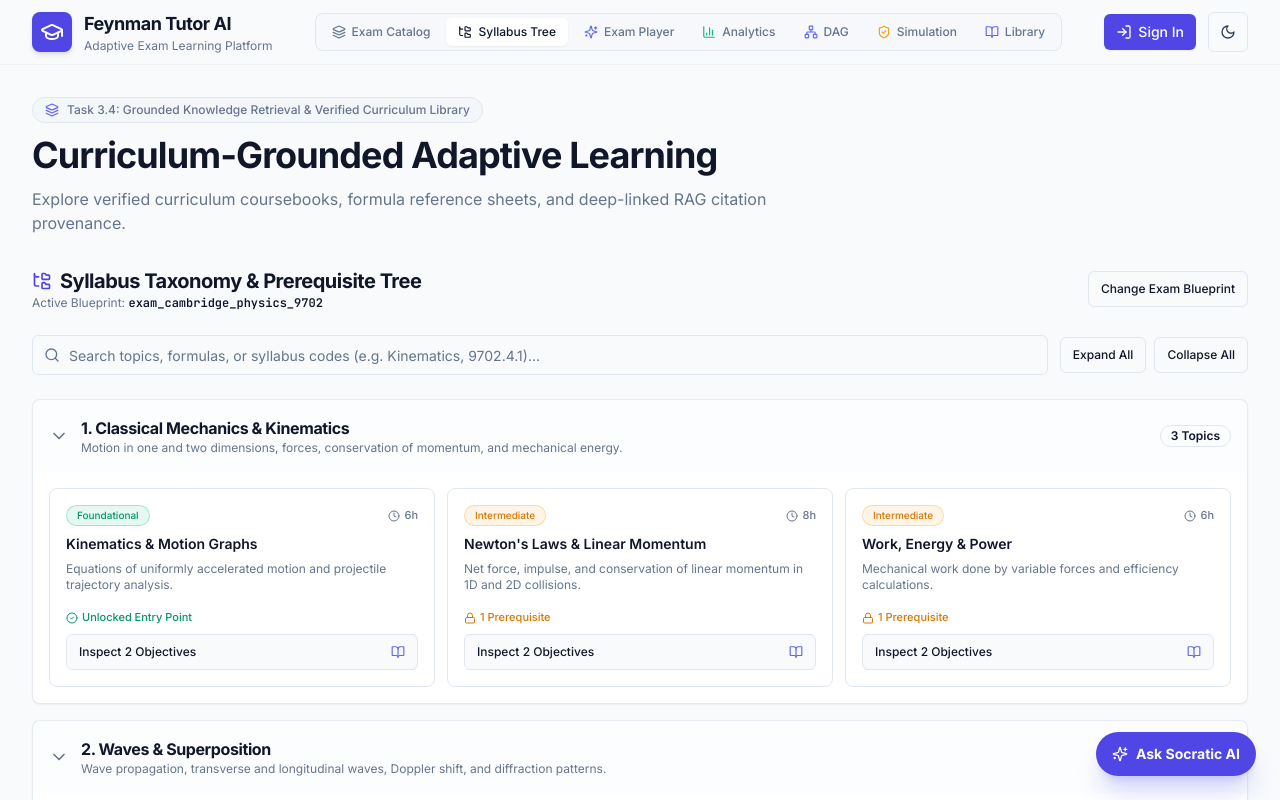
Test case: Curriculum Blueprint Catalog & Syllabus Tree Suite › switches to Exam Catalog tab and selects AP Calculus BC blueprint
Click the button "Exam Catalog": {"x": 381, "y": 32} 320,18 -> 442,46
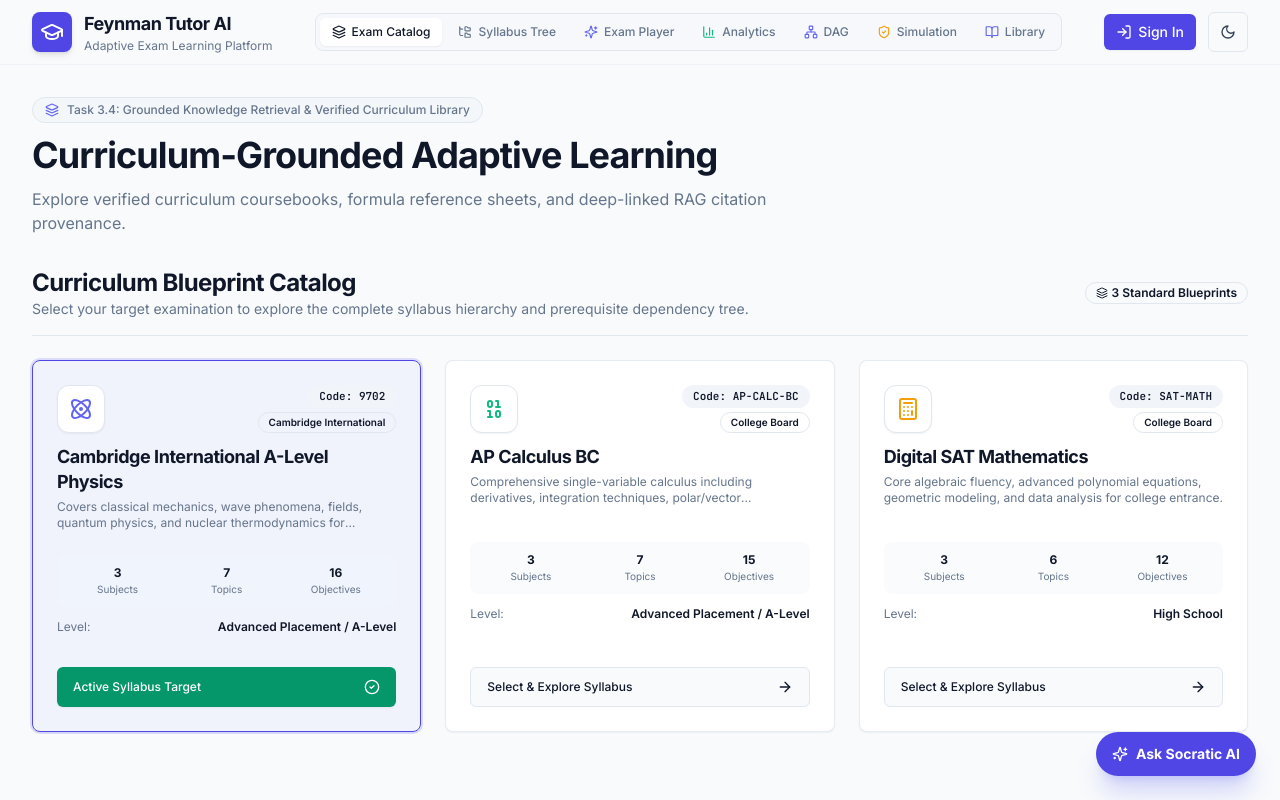
Result: the heading "Curriculum Blueprint Catalog" is shown at 32,268 -> 356,297
Result: the heading "AP Calculus BC" is shown at 470,446 -> 600,467
Result: the heading "Digital SAT Mathematics" is shown at 884,446 -> 1088,467
Click the button "Select & Explore Syllabus" below "15": {"x": 560, "y": 686} 470,666 -> 810,706
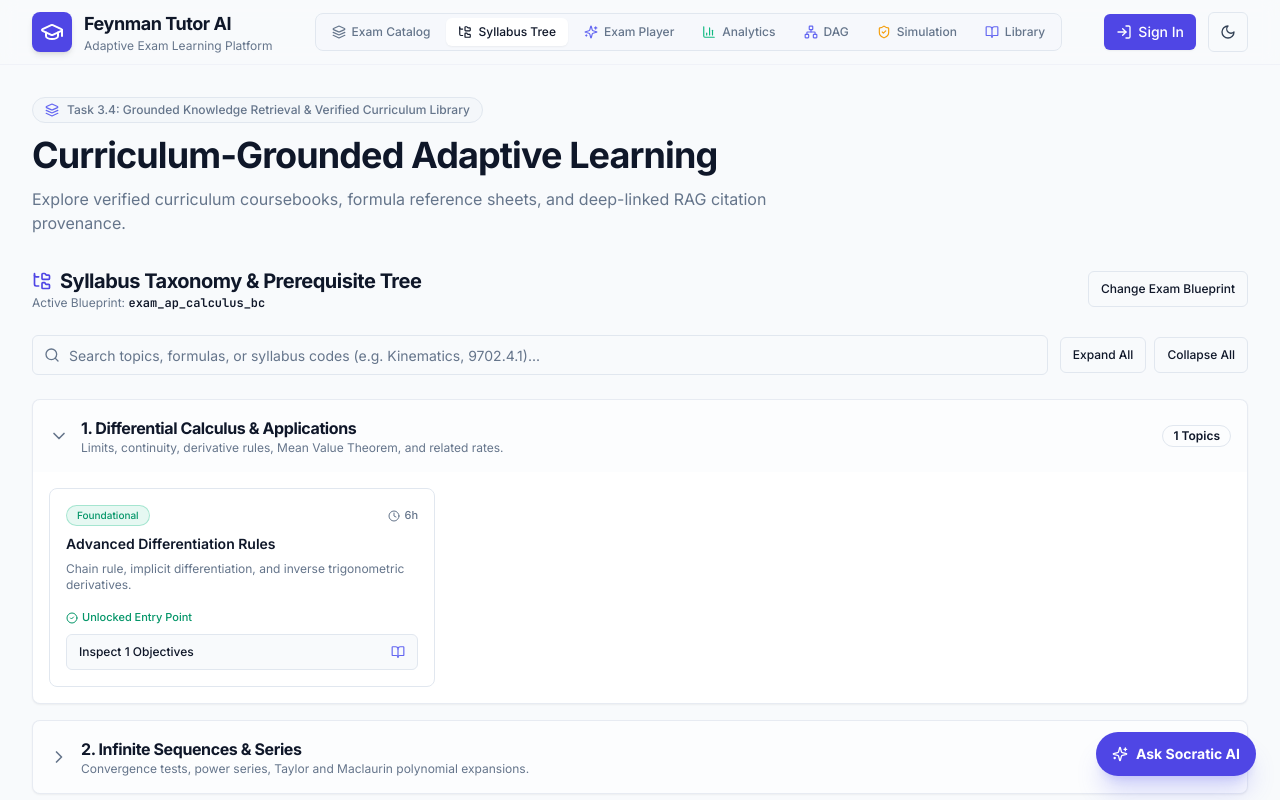
Result: the heading "1. Differential Calculus & Applications" is shown at 81,418 -> 356,438
